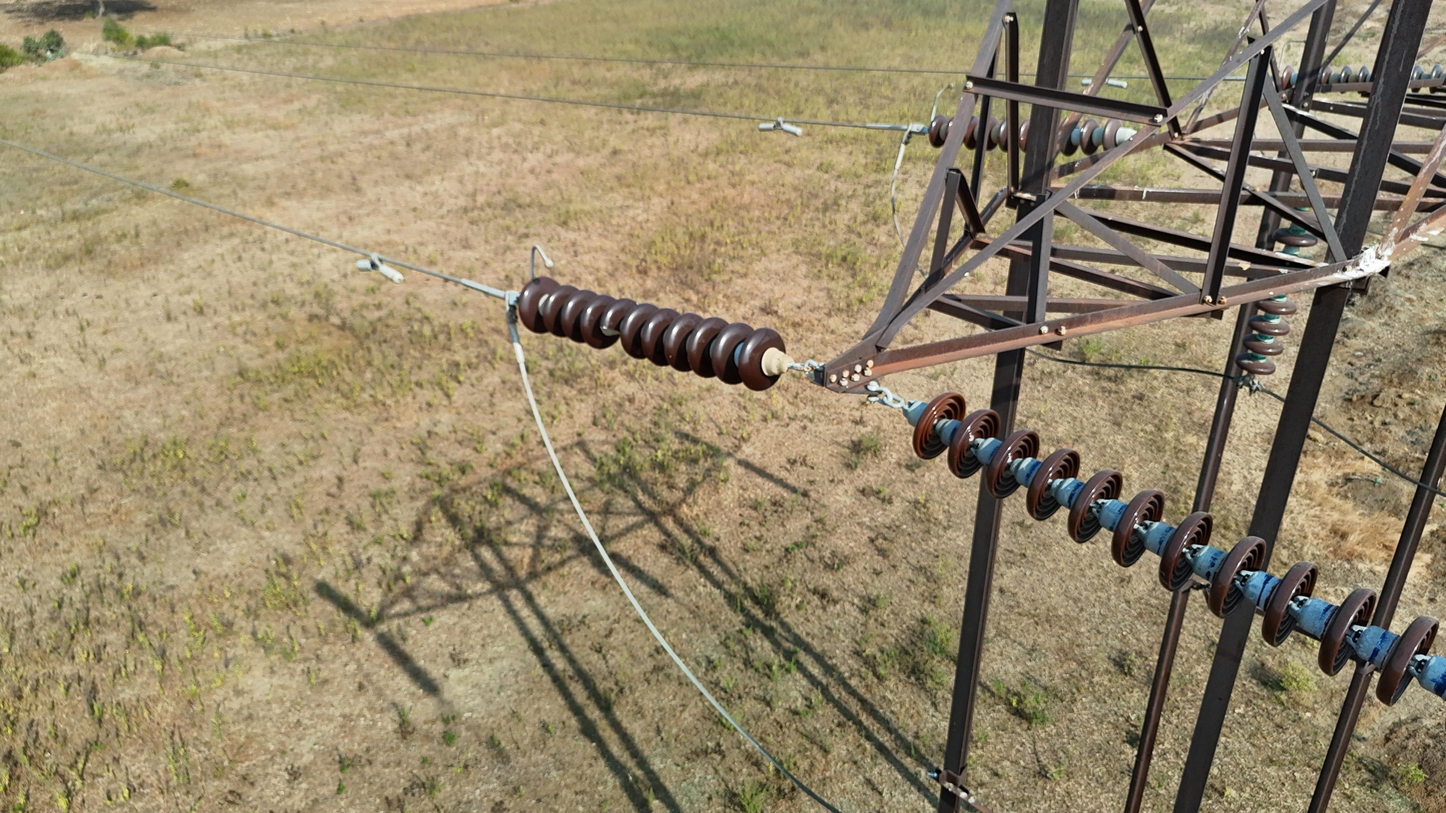broken_insulator: (598, 294, 625, 342)
